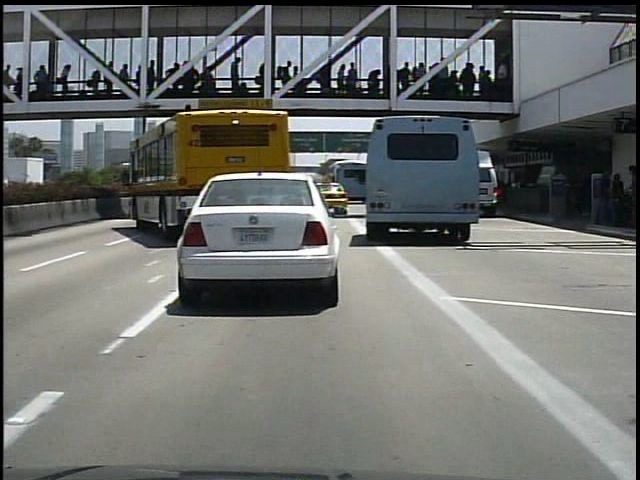person: (595, 164, 626, 225)
